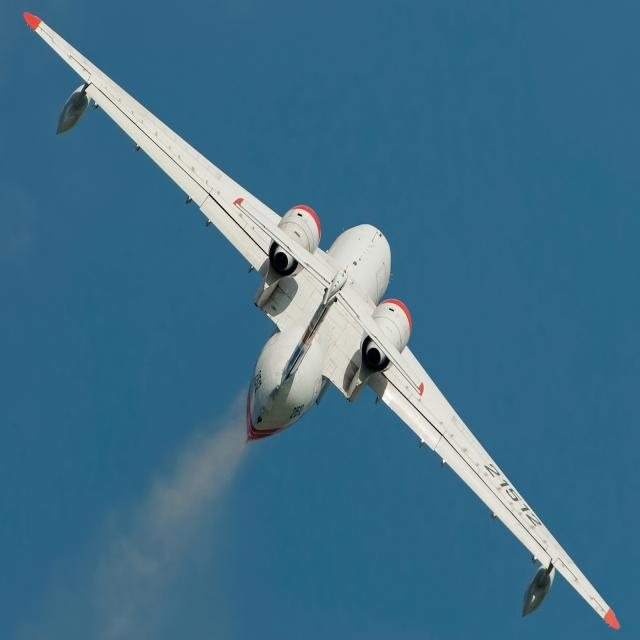MIL_Plane: (0, 0, 365, 374)
